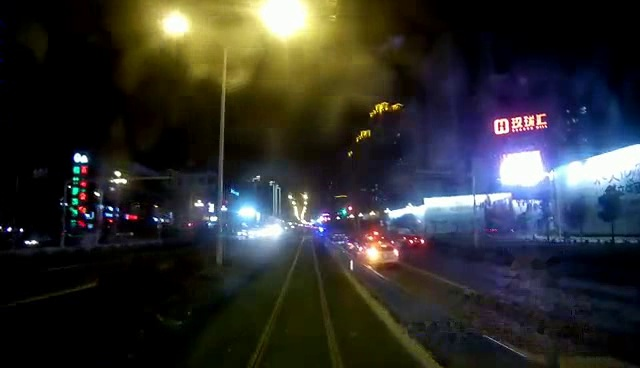car: (354, 241, 406, 268), (399, 234, 432, 251), (332, 228, 351, 246)
